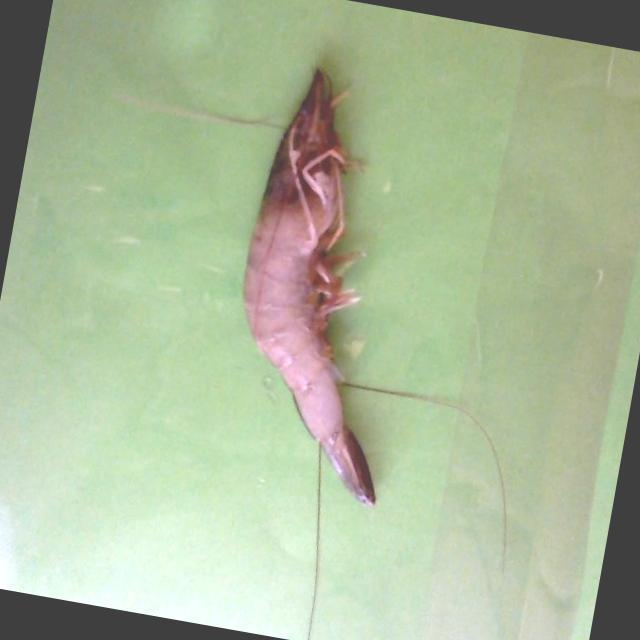shrimp: (243, 69, 374, 506)
